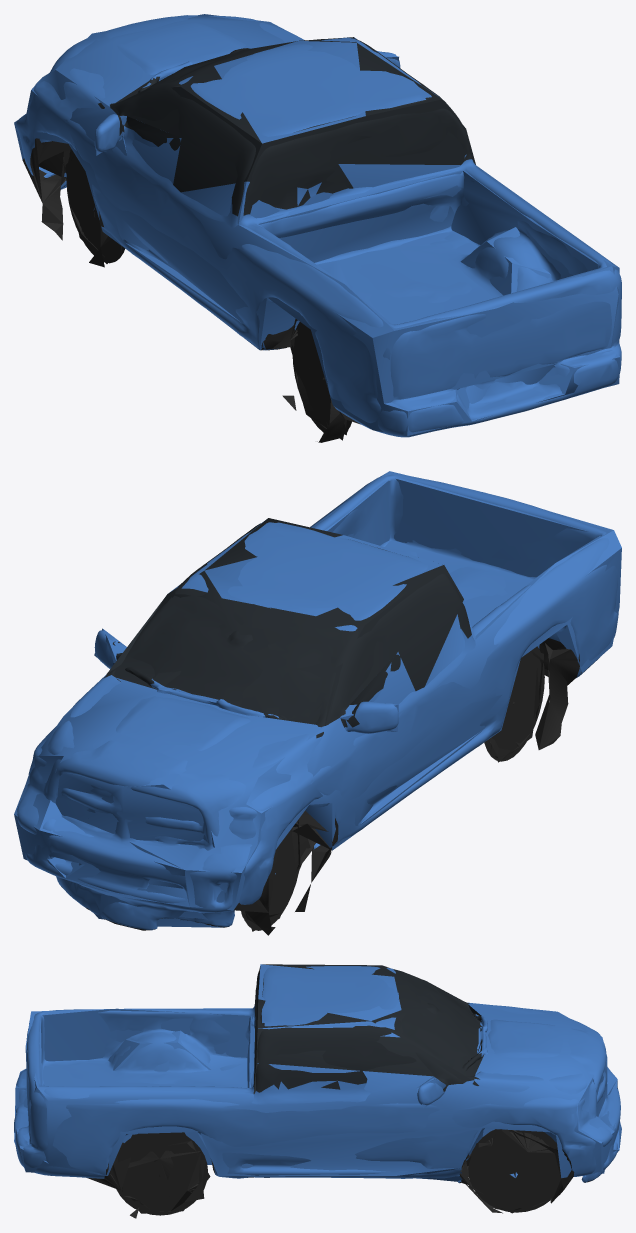
Rendered from dodge-ram-1500-pickup.glb.
3 views of the same model, one above another, from view 1: azimuth 30°, elevation 25°; view 2: azimuth 150°, elevation 25°; view 3: azimuth 270°, elevation 25° (orthographic). The views are drawn at different scales.
Parts seen in each view (by area): view 1: body, far; view 2: body, far; view 3: body, far.
Boxes of the visible parts, bbox=[...] form: body: bbox=[16, 15, 621, 442]; far: bbox=[14, 14, 619, 442]; body: bbox=[17, 474, 618, 930]; far: bbox=[14, 471, 621, 935]; body: bbox=[14, 966, 621, 1218]; far: bbox=[14, 964, 621, 1213].
Size of the model in its own units: 2.66 by 2.07 by 6.09.
